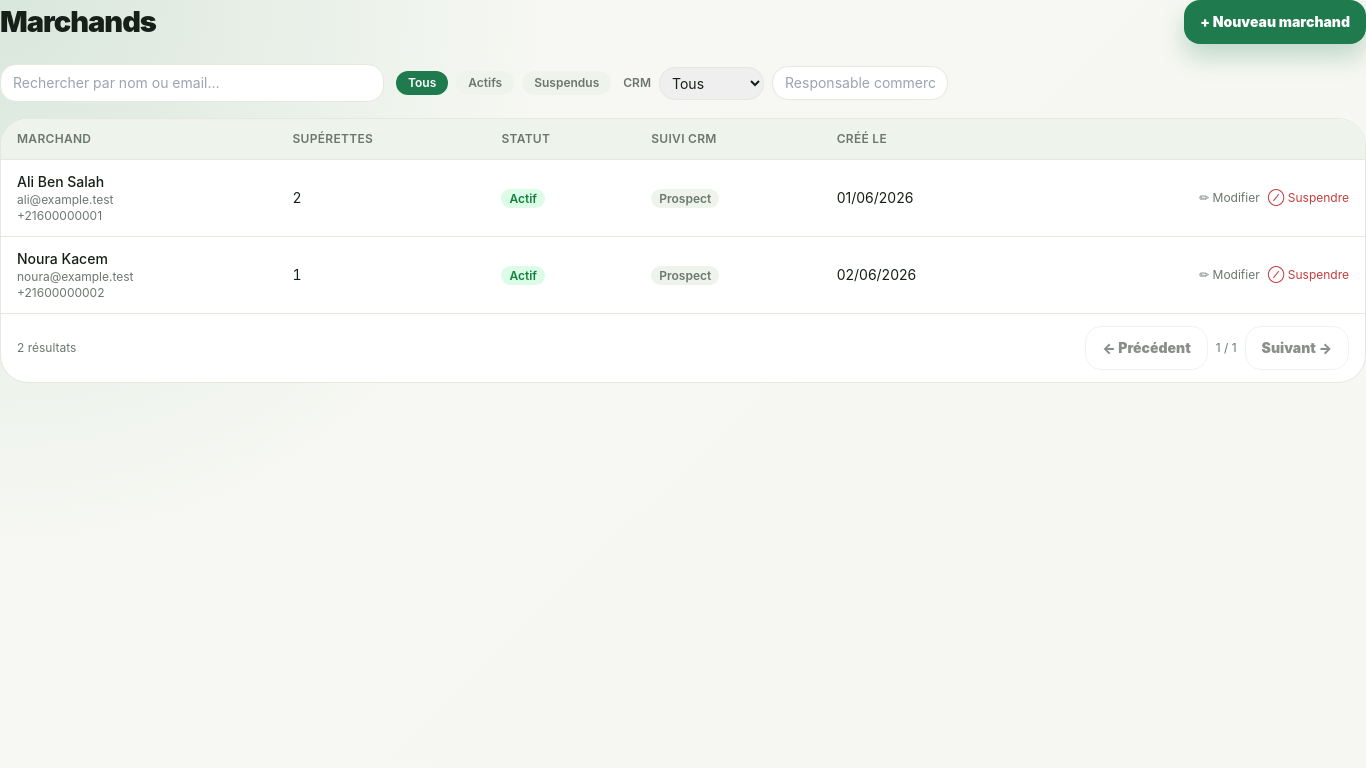
Test: MarchandsPage › ignore les réponses détail marchand obsolètes
Click the button "✏ Modifier" in the row of "ali@example.test" at coordinates (1229, 198), box 1199,190 -> 1260,206
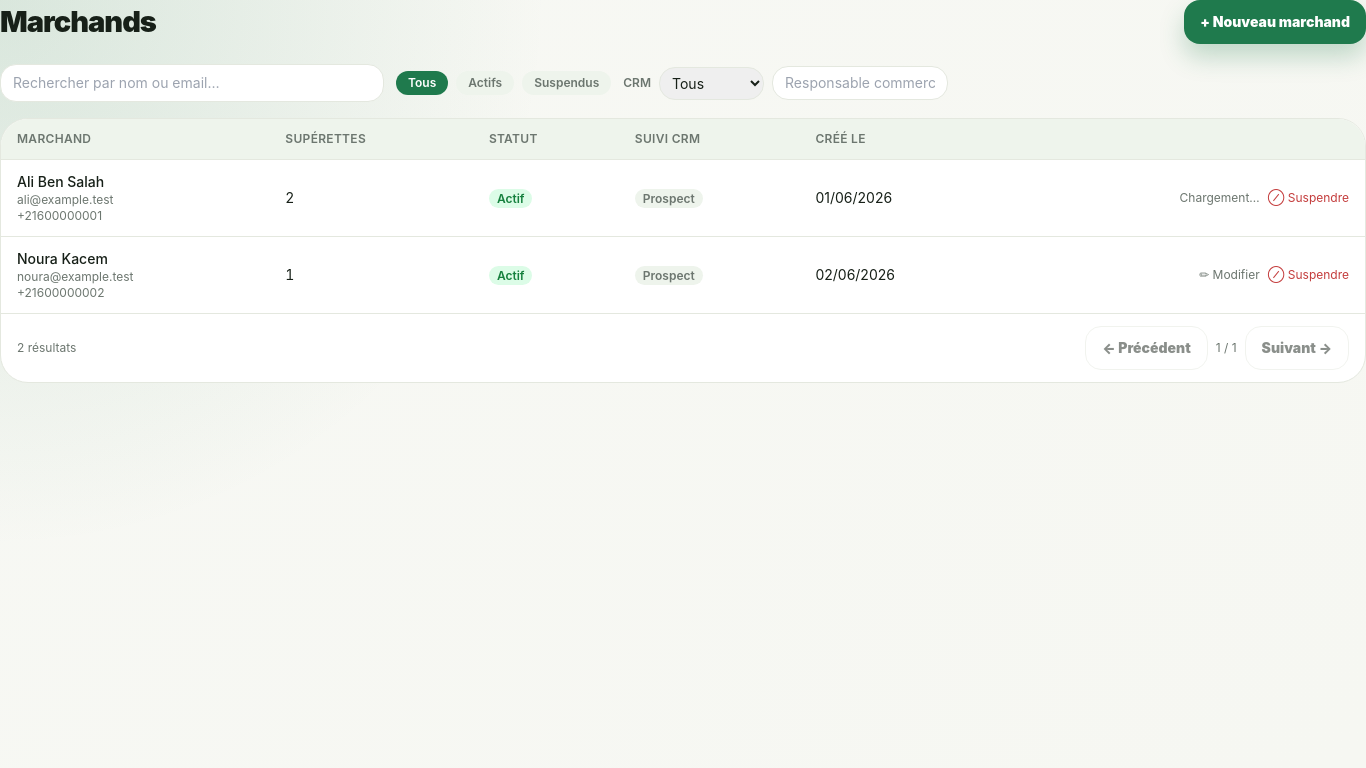
Click the button "✏ Modifier" at coordinates (1229, 275), box 1199,267 -> 1260,283
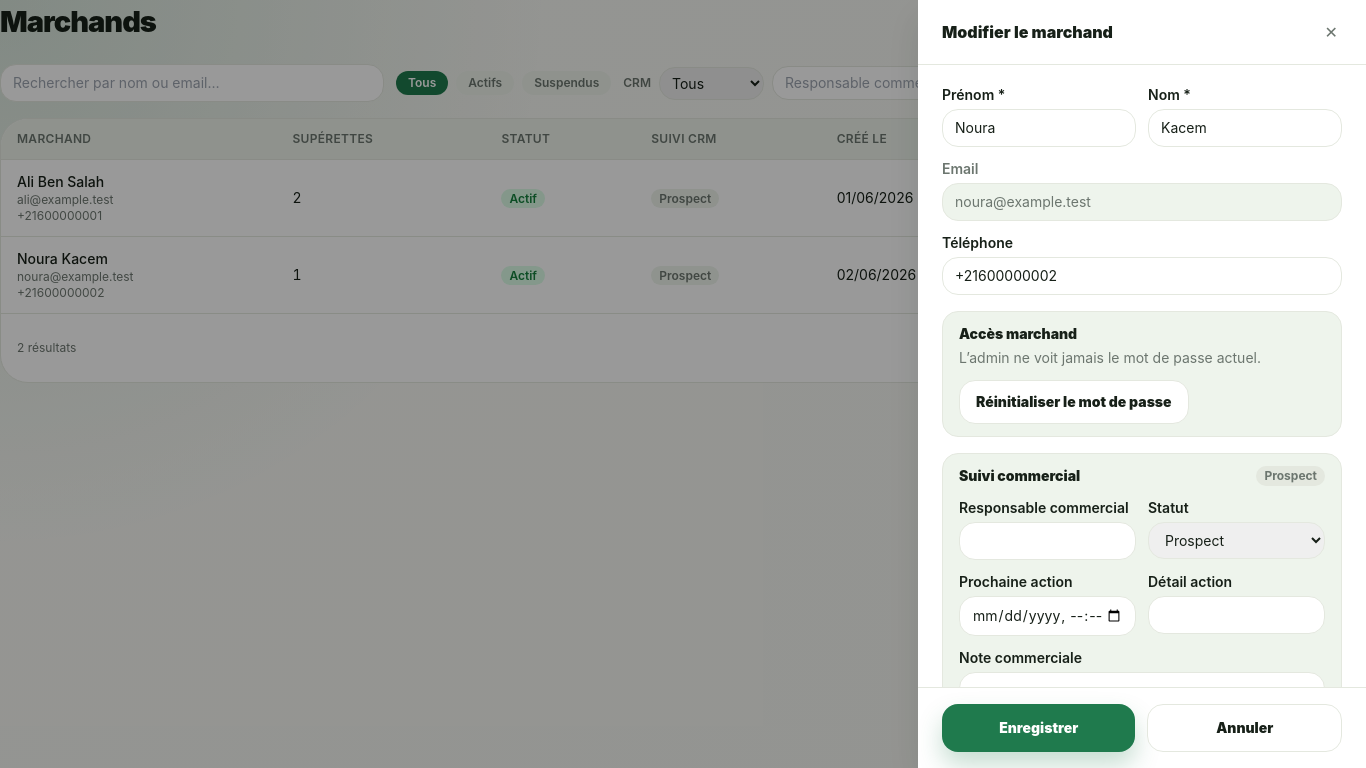
Result: the field showing "Noura" is shown at 942,109 -> 1136,147
